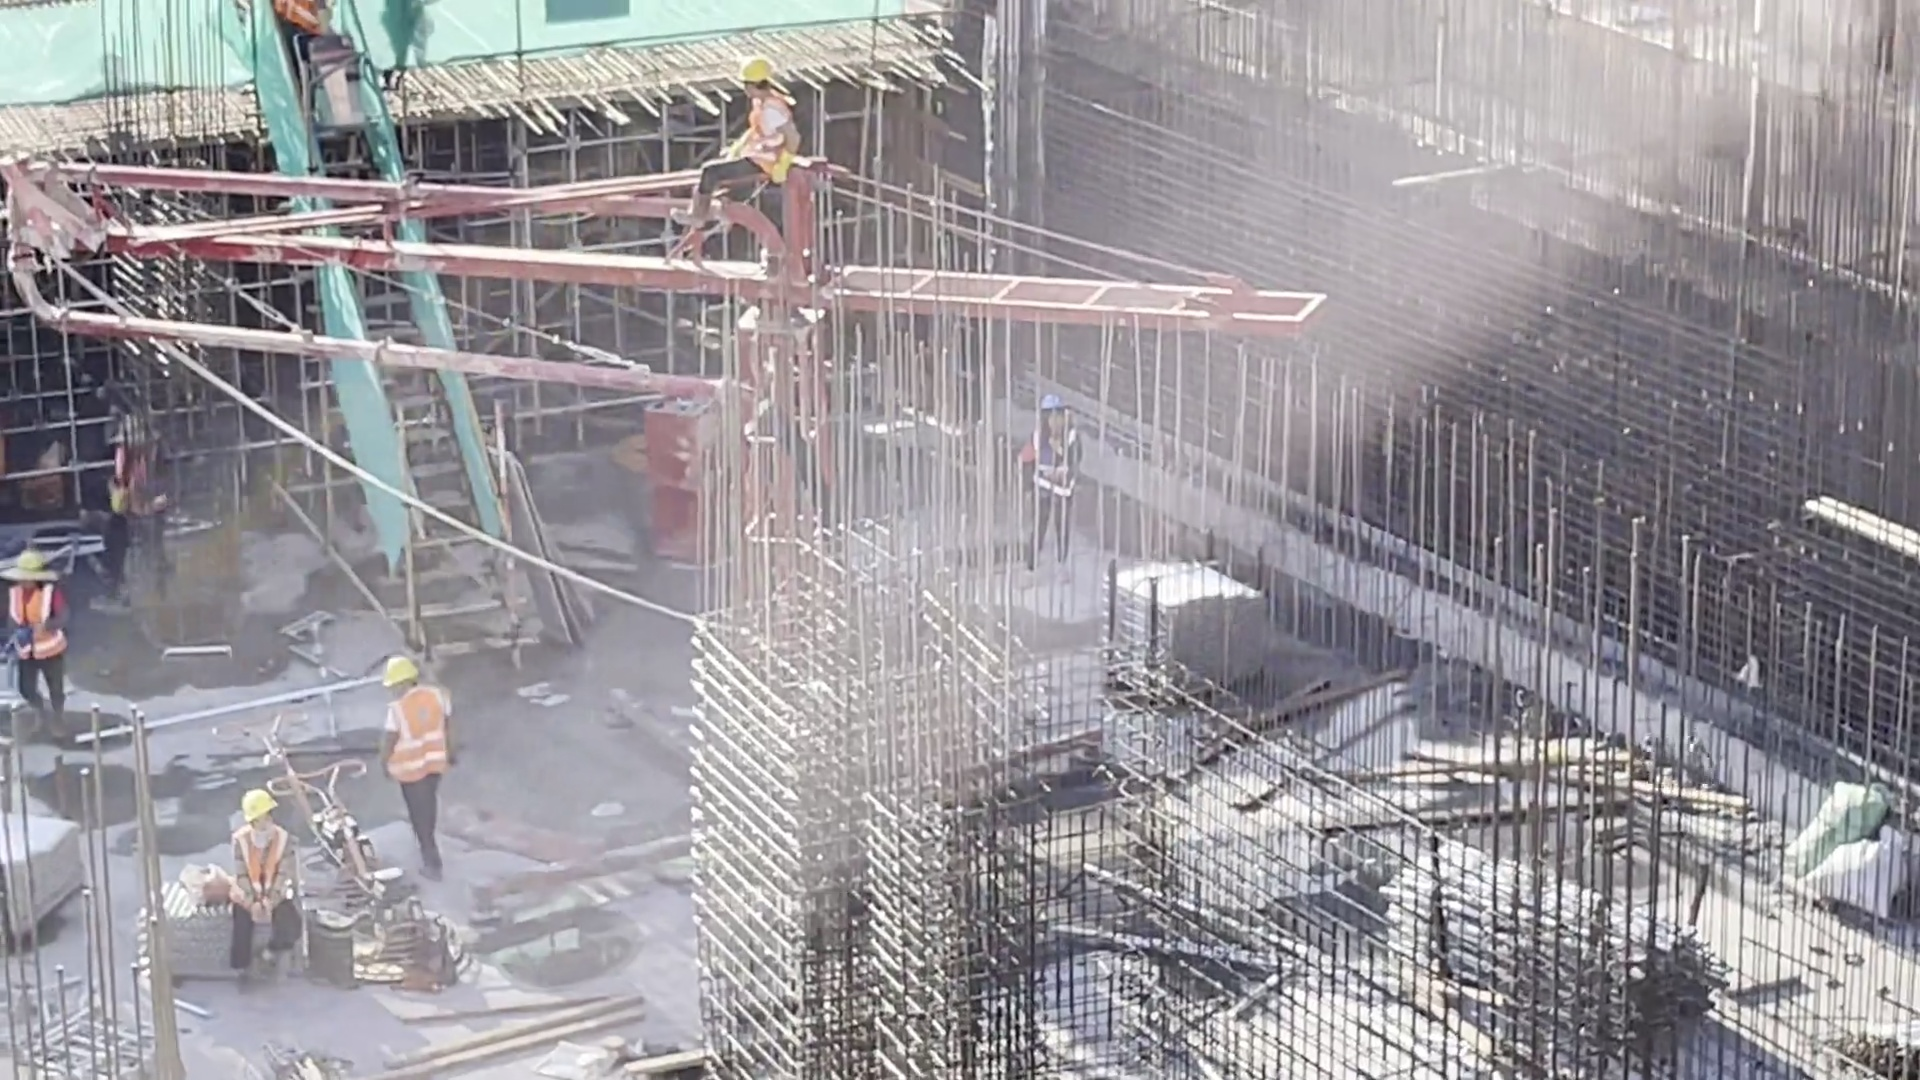helmet: (375, 658, 413, 681), (1039, 395, 1074, 418), (740, 63, 775, 84), (12, 552, 44, 575), (246, 795, 267, 818)
person: (663, 60, 814, 252), (371, 653, 473, 876), (1007, 390, 1099, 580), (222, 784, 304, 991), (88, 415, 181, 593), (3, 546, 89, 737), (249, 1, 336, 84)
vest: (735, 107, 815, 183), (397, 692, 459, 779), (1034, 440, 1086, 519), (236, 833, 289, 908), (111, 452, 163, 522), (11, 592, 58, 665), (259, 1, 325, 31)
